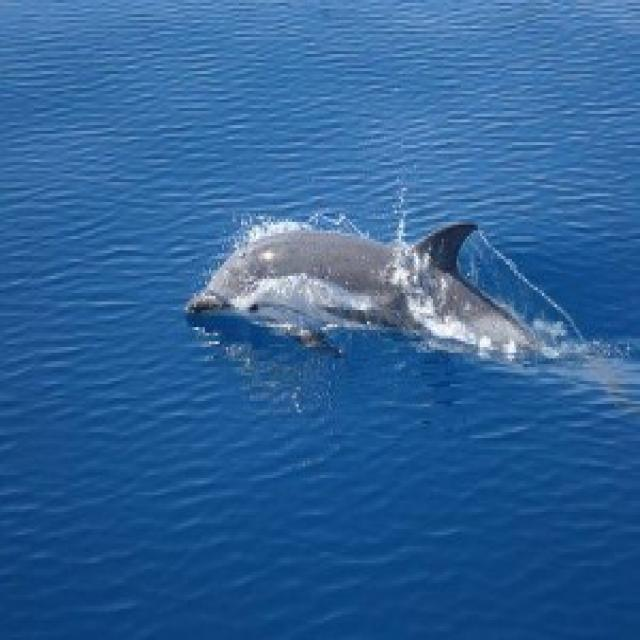Dolphin: (180, 206, 640, 388)
